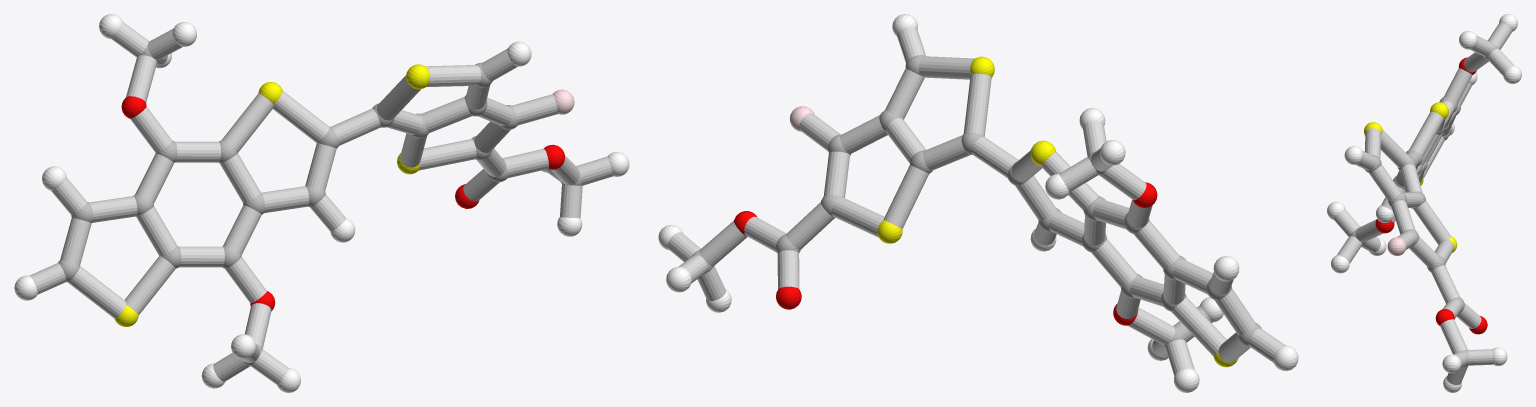
Rendered from Dimethoxy_Benzodithiophene_Phi_10_Theta_240_Methylcarbonyl_3_Fluoro_Thienothiophene.glb.
3 renders of one model, left to right at view 1: azimuth 30°, elevation 25°; view 2: azimuth 150°, elevation 25°; view 3: azimuth 270°, elevation 25°, orthographic. The views are drawn at different scales.
Visible parts, largest first — view 1: grp15205, grp8689, grp1, grp7241, grp13395; view 2: grp15205, grp8689, grp1, grp7241, grp13395; view 3: grp15205, grp8689, grp1, grp13395, grp7241, grp14843.
Part boxes in pixels (bbox=[...]): grp15205: bbox=[29, 22, 613, 384]; grp8689: bbox=[14, 14, 629, 392]; grp1: bbox=[58, 46, 582, 366]; grp7241: bbox=[114, 64, 429, 326]; grp13395: bbox=[121, 96, 564, 311]; grp15205: bbox=[667, 27, 1285, 375]; grp8689: bbox=[658, 14, 1298, 392]; grp1: bbox=[690, 55, 1261, 348]; grp7241: bbox=[877, 56, 1238, 367]; grp13395: bbox=[734, 182, 1157, 325]; grp15205: bbox=[1333, 22, 1514, 385]; grp8689: bbox=[1327, 14, 1521, 392]; grp1: bbox=[1350, 43, 1498, 367]; grp13395: bbox=[1375, 57, 1487, 334]; grp7241: bbox=[1364, 102, 1457, 252]; grp14843: bbox=[1387, 237, 1406, 255].
Bounding box in the file's own units: 16.96 × 8.22 × 6.18.
